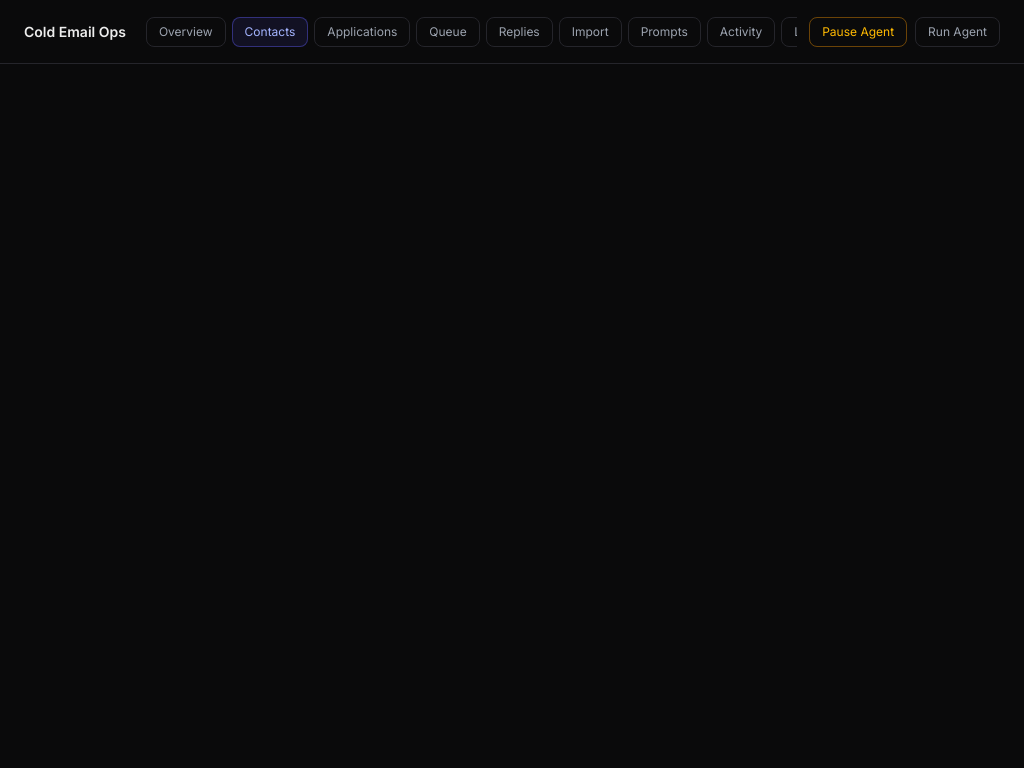
Nav — not paused state › opens Pause scope modal on Pause Agent click
Step 1. Click the button "Pause Agent" → {"x": 858, "y": 32}, box [809,16,907,46]
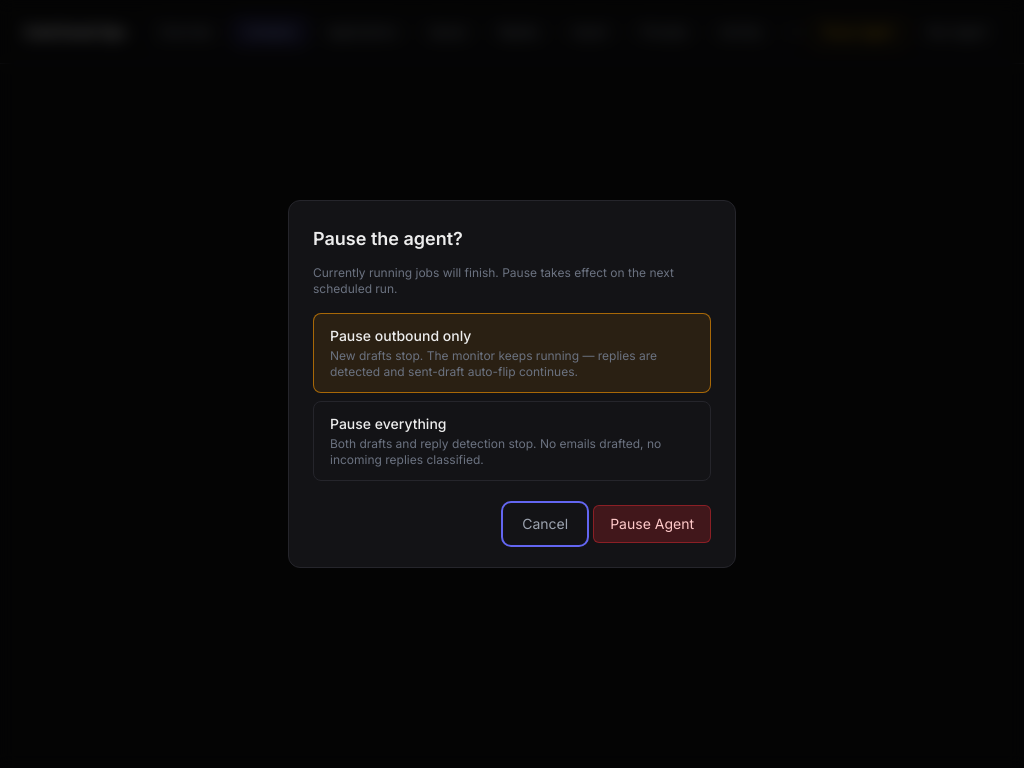
Expected: the dialog is shown, [288,200,736,568]
Expected: the heading "Pause the agent?" is shown, [313,228,463,249]
Expected: the text "Pause outbound only" is shown, [330,327,471,344]
